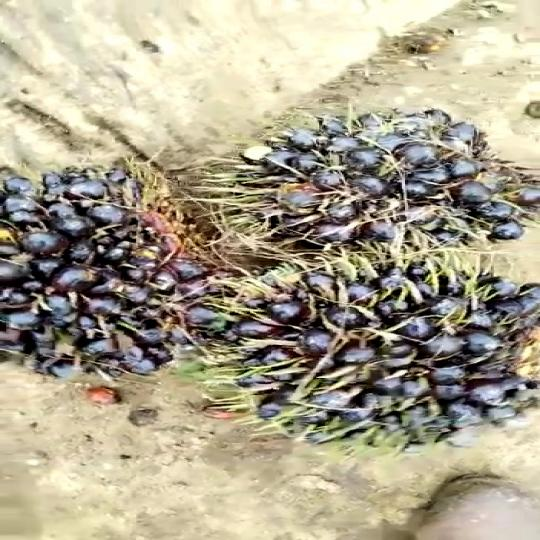mentah: (219, 242, 532, 456), (212, 95, 540, 269), (0, 154, 211, 387)
